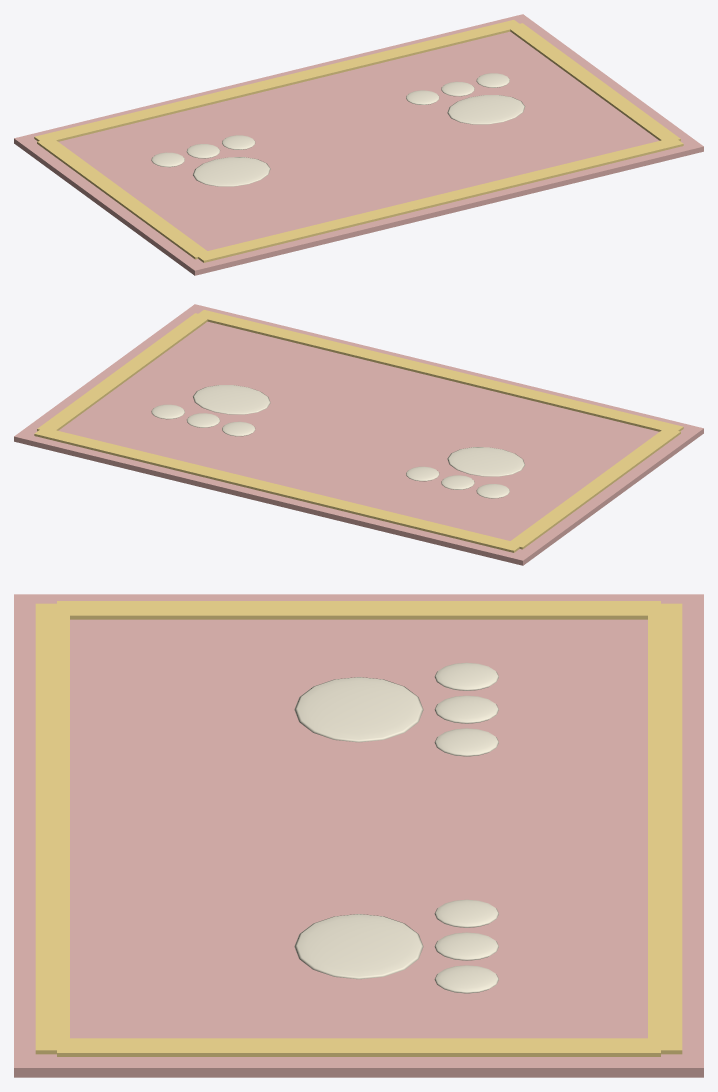
The model's file is cosy-rug.glb.
3 renders of one model, top to bottom at view 1: azimuth 30°, elevation 25°; view 2: azimuth 150°, elevation 25°; view 3: azimuth 270°, elevation 25°, orthographic. The views are drawn at different scales.
Visible parts, largest first — view 1: woven rug, rug border, rug paw pad.001; view 2: woven rug, rug border, rug paw pad.001; view 3: woven rug, rug border, rug paw pad.001.
Part boxes in pixels (left/top/right/bottom): woven rug: left=14, top=14, right=703, bottom=275; rug border: left=34, top=20, right=683, bottom=262; rug paw pad.001: left=151, top=73, right=525, bottom=186; woven rug: left=14, top=304, right=703, bottom=565; rug border: left=34, top=310, right=683, bottom=552; rug paw pad.001: left=151, top=385, right=524, bottom=498; woven rug: left=14, top=594, right=703, bottom=1077; rug border: left=35, top=601, right=682, bottom=1056; rug paw pad.001: left=294, top=662, right=498, bottom=993.
Size of the model in its own units: 2.6 by 0.0425 by 1.6.
